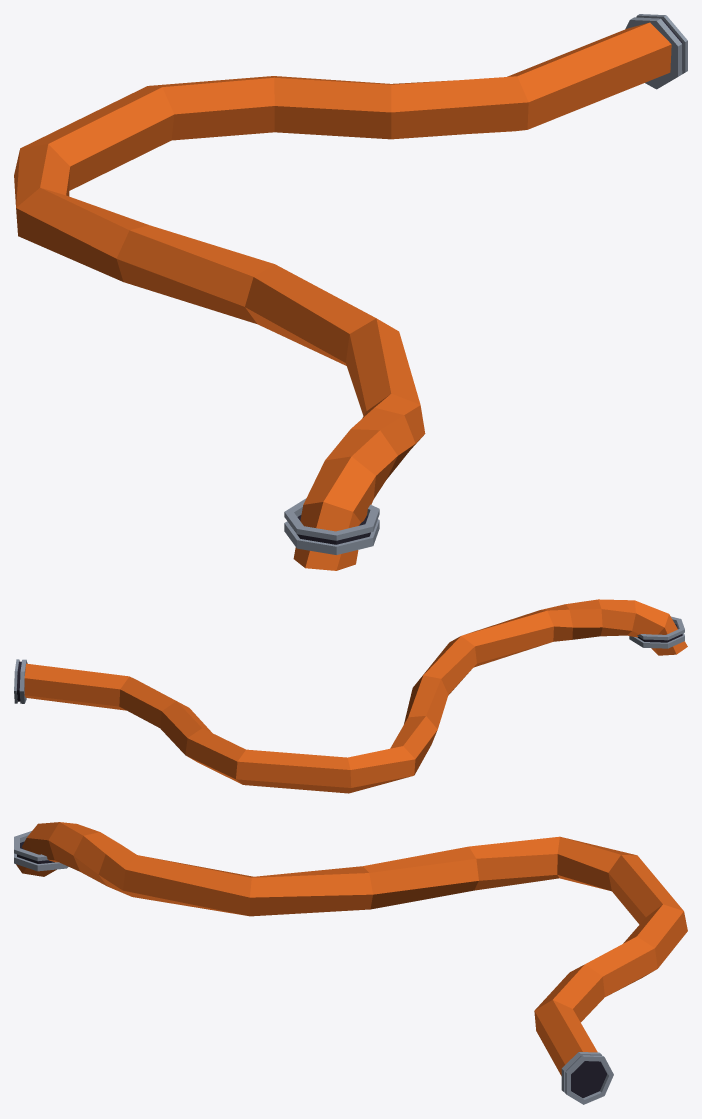
File: cableA.fbx
3 renders of one model, top to bottom at view 1: azimuth 30°, elevation 25°; view 2: azimuth 150°, elevation 25°; view 3: azimuth 270°, elevation 25°, orthographic. The views are drawn at different scales.
Visible parts, largest first — view 1: cableA; view 2: cableA; view 3: cableA.
Boxes of the visible parts, x1=… form: cableA: x1=14, y1=14, x2=687, y2=570; cableA: x1=14, y1=599, x2=687, y2=793; cableA: x1=14, y1=822, x2=687, y2=1104.
Bounding box in the file's own units: 123 × 13.78 × 133.
